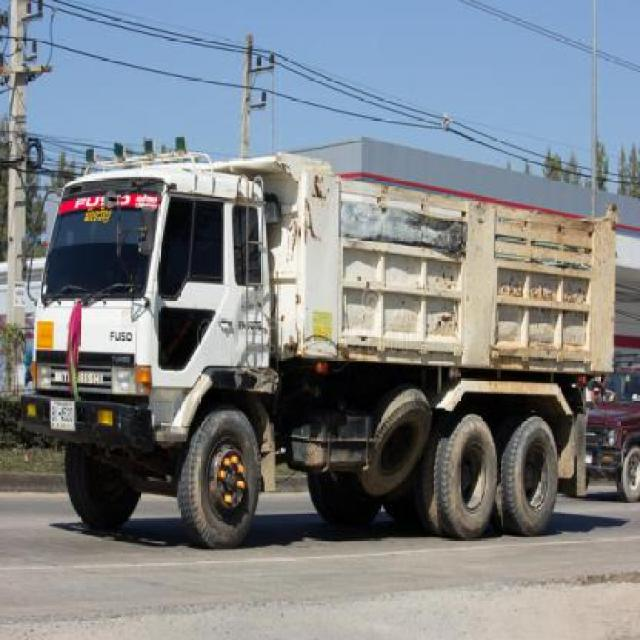truck: (13, 133, 616, 547)
